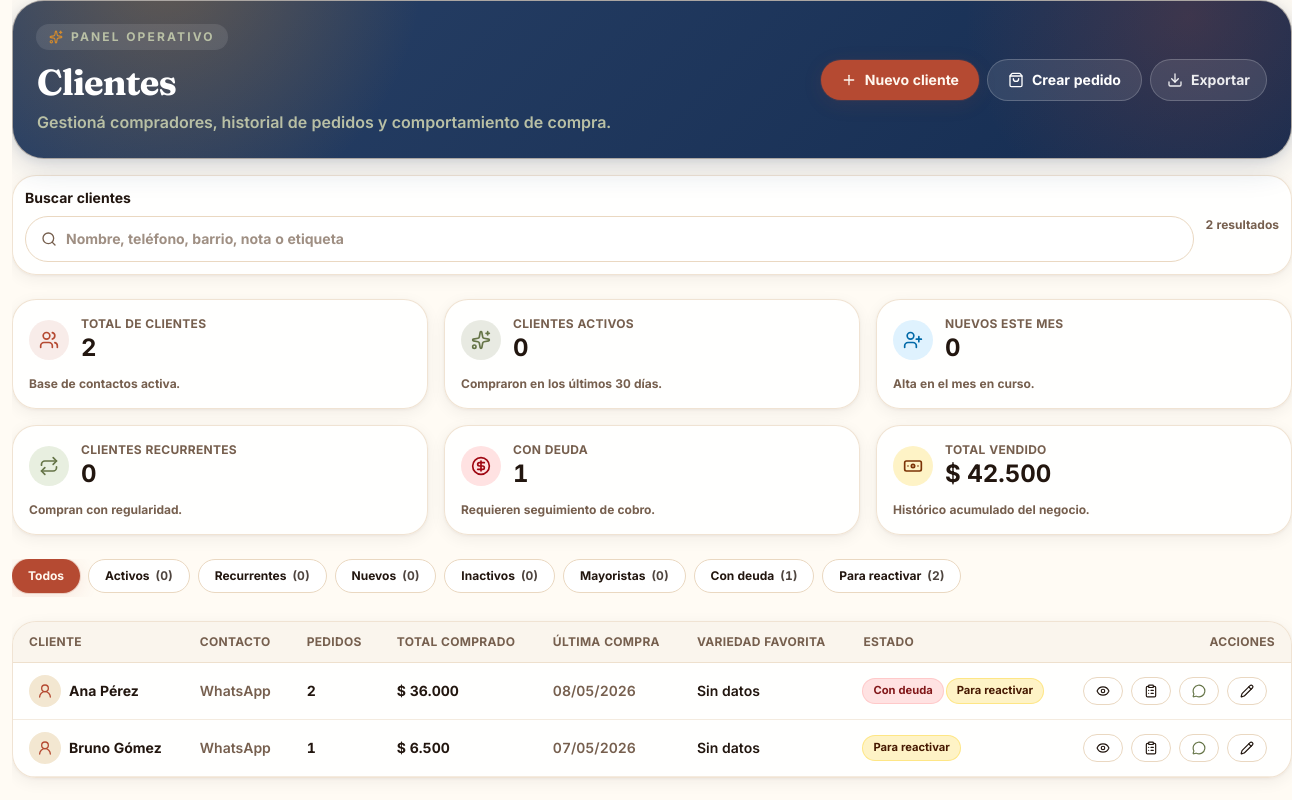
Test case: CustomersPage › filters customers with quick chips
Expected: the text "Ana Pérez" is shown, [69,681,139,701]
Click the tab "Con deuda(1)". click: point(754, 576)
box: [694,559,814,593]
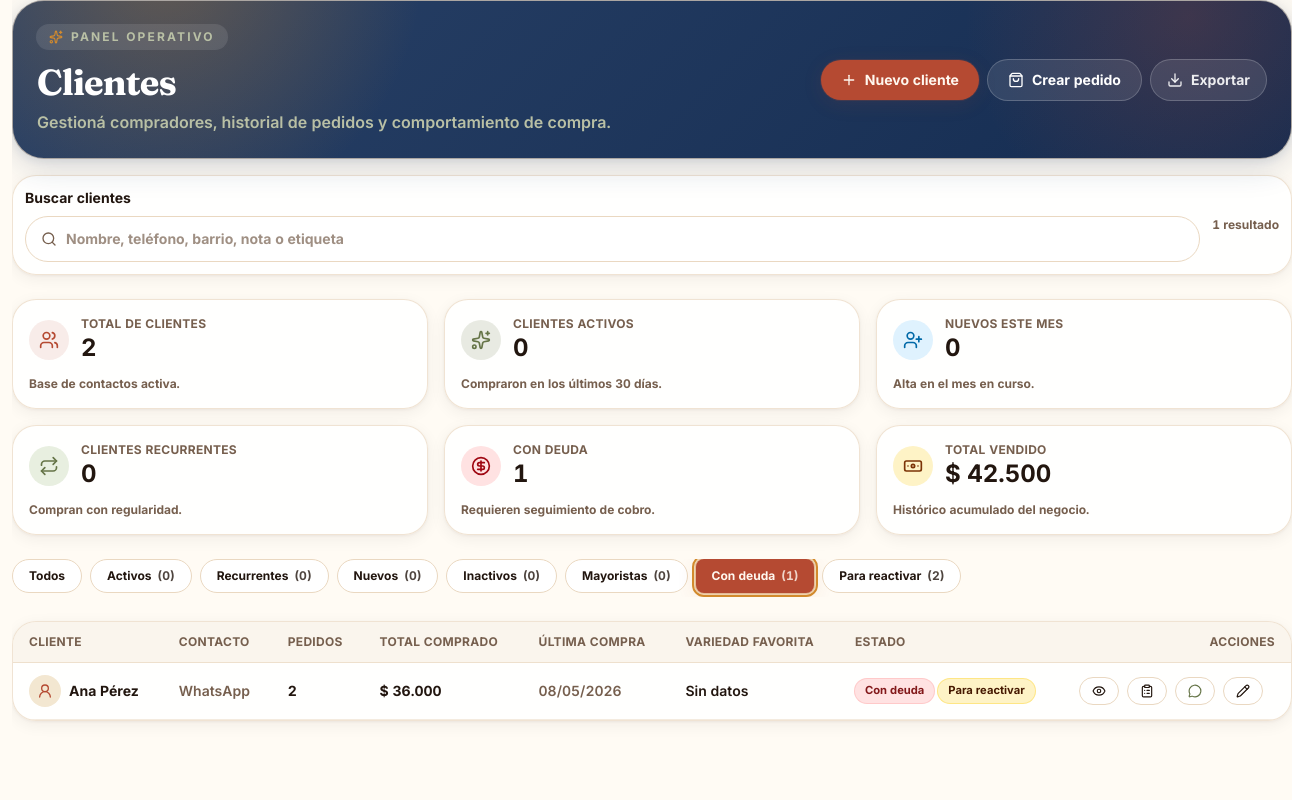
Expected: the text "Bruno Gómez" is gone
